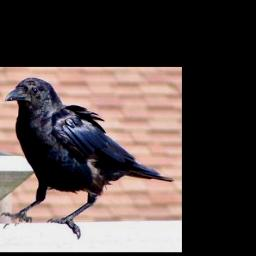Crow: (1, 77, 173, 239)
